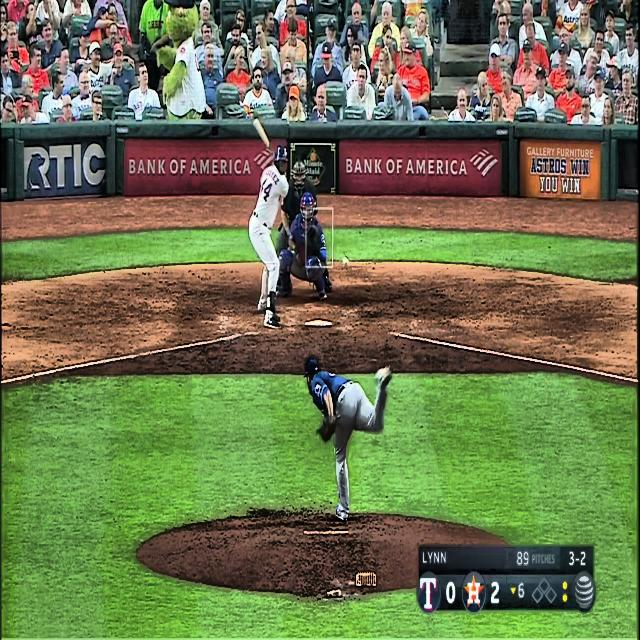baseball: (342, 256, 349, 266)
